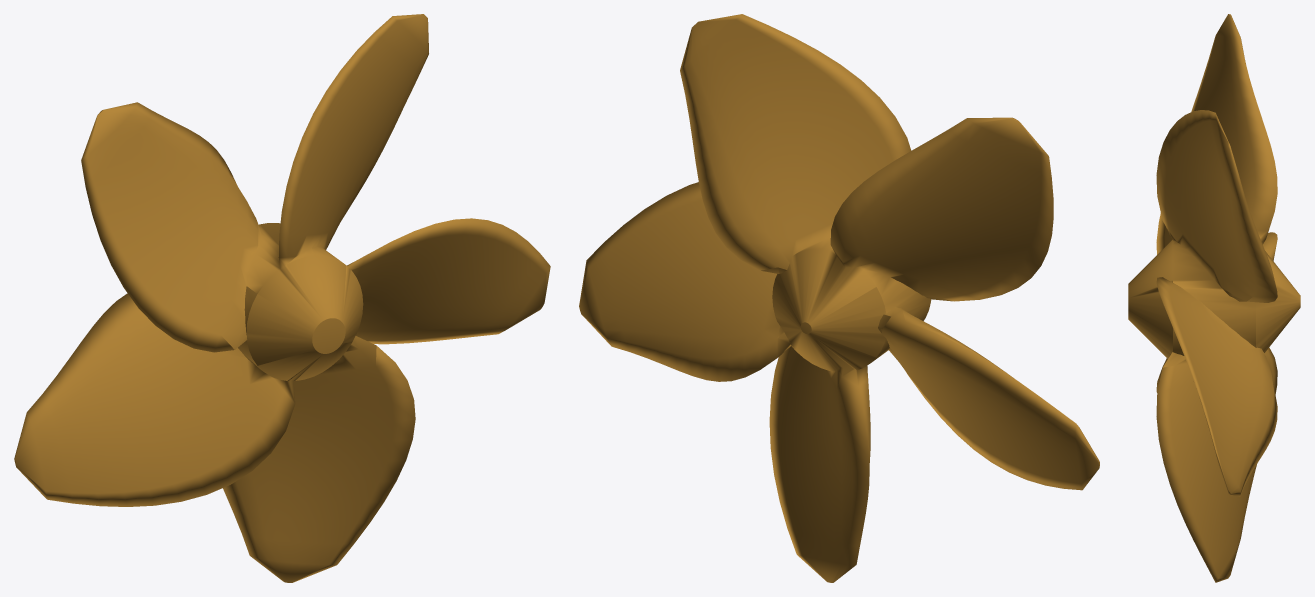
File: hero-submarine-propeller.glb
The picture shows the model from 3 angles, left to right: view 1: azimuth 30°, elevation 25°; view 2: azimuth 150°, elevation 25°; view 3: azimuth 270°, elevation 25°; orthographic projection. The views are drawn at different scales.
Visible parts, largest first — view 1: Propeller; view 2: Propeller; view 3: Propeller.
Boxes of the visible parts, x1,y1,x2,y2 form: Propeller: (14,14,550,582); Propeller: (579,14,1099,582); Propeller: (1128,14,1300,582).
Bounding box in the file's own units: 1.9 × 1.89 × 0.58.
